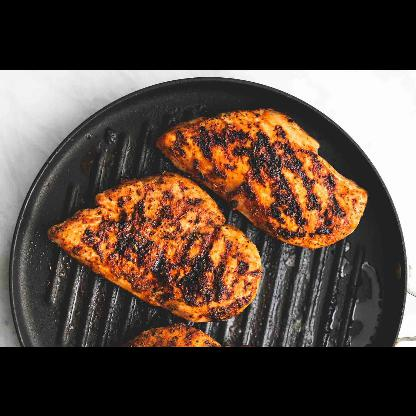grilled chicken breast: (48, 174, 262, 322), (160, 108, 368, 250), (120, 325, 224, 347)
